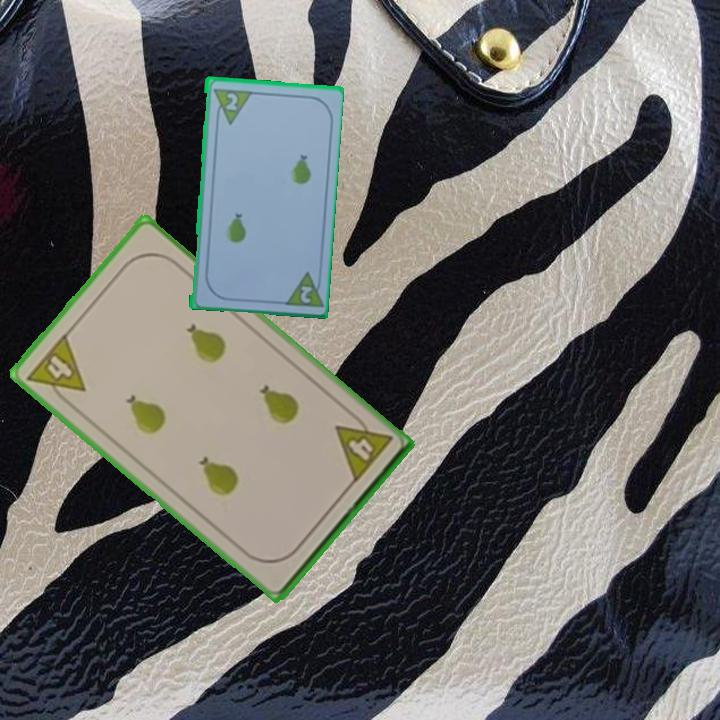2p: (279, 267, 324, 310), (222, 89, 240, 113)
4p: (22, 329, 89, 410), (331, 408, 395, 486)
